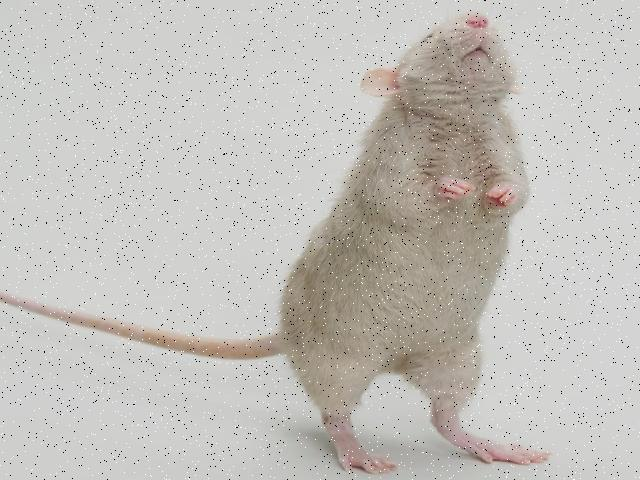Tikus: (226, 3, 554, 474)
